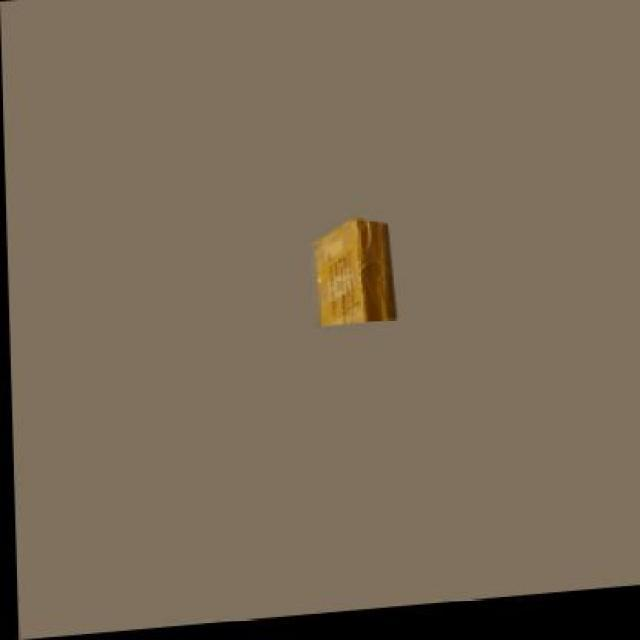box: (316, 225, 392, 332)
